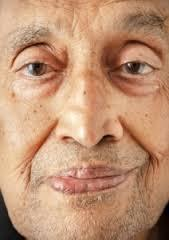normalEye: (4, 21, 165, 89)
strokeMouthWeak: (32, 162, 146, 196)
